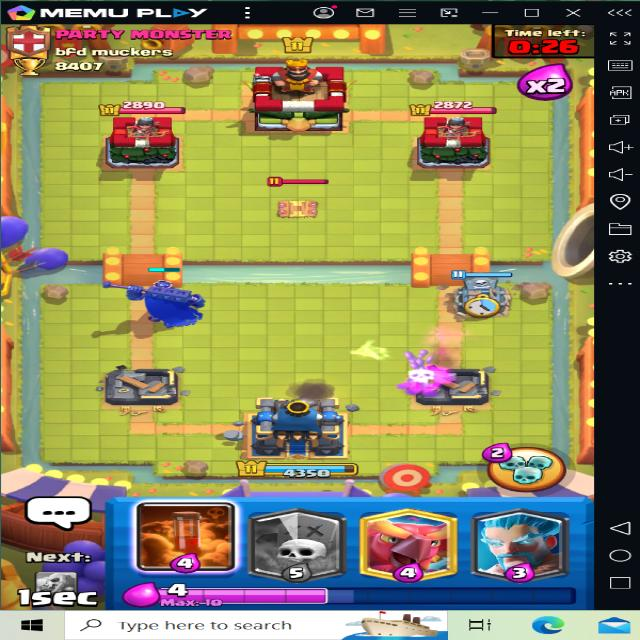Teslahidden: (256, 170, 345, 224)
